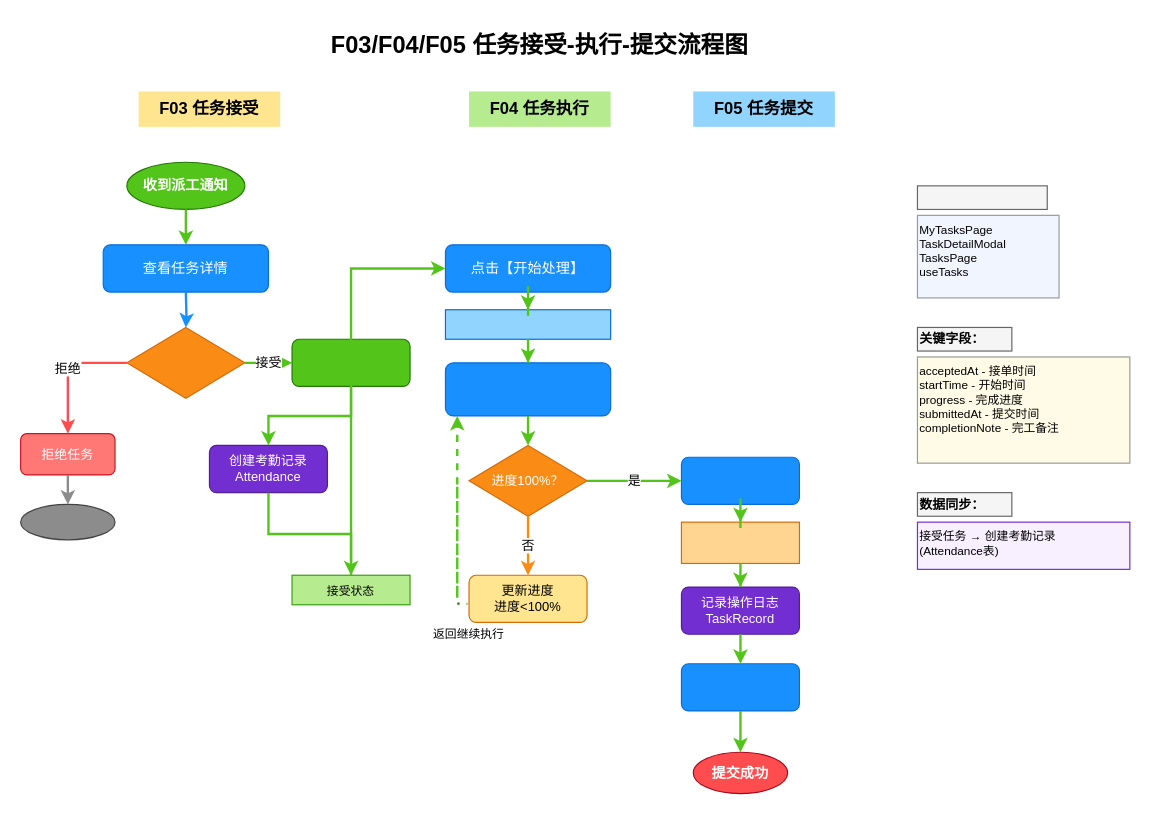
Some shapes in this 1151 by 814 pixel diagram are drawn without their labels. The shapes that lost their labels are listed below. From the top down, each one's centre as x and y in pixels, then its label:
At (981,197): "涉及页面/组件：".
At (527,324): "accepted → in_progress".
At (185,362): "确认接受？".
At (350,362): "接受任务".
At (527,389): "填写处理进度 位置打卡/照片".
At (739,480): "点击【提交验收】".
At (67,521): "重新派发".
At (739,542): "等待接受".
At (739,687): "通知派发人 待验收".
